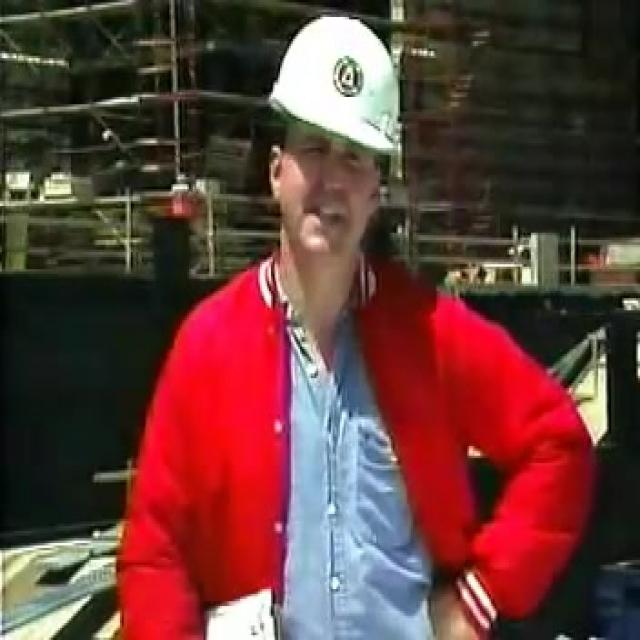Reflective-Jacket: (87, 264, 631, 638)
Safety-Helmet: (256, 7, 424, 177), (136, 163, 214, 252)
